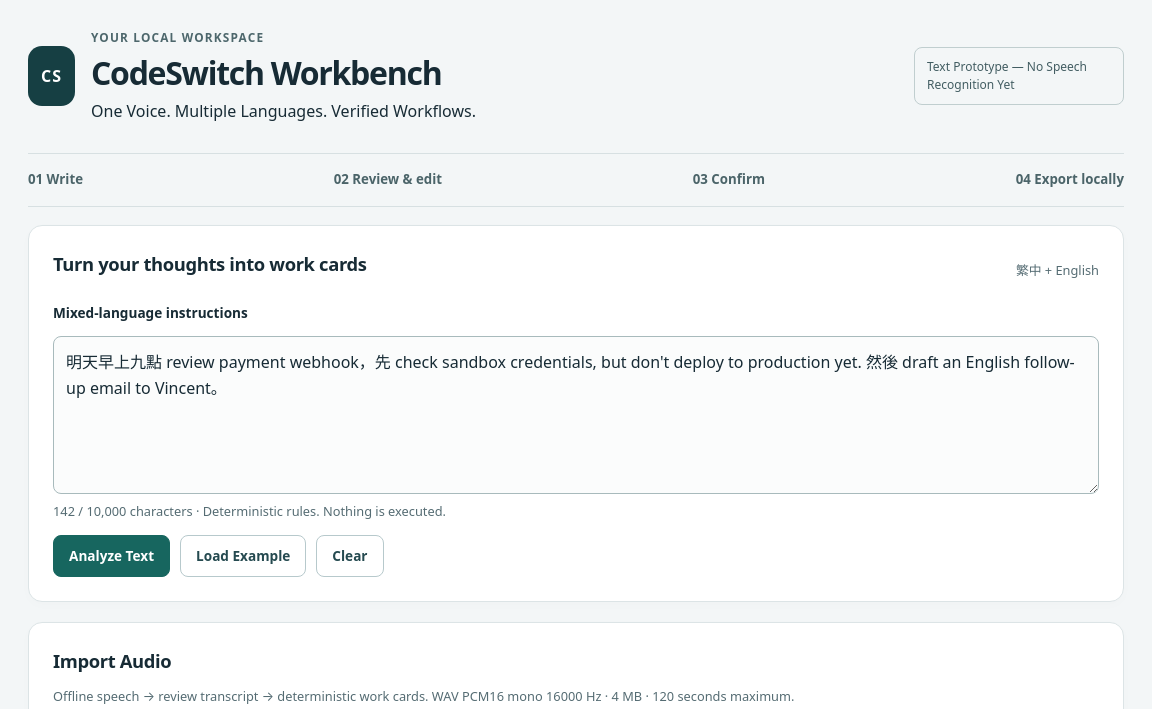
shows correct calendar and task fields and unknown email address
Click the button "Analyze Text": (112, 556) left=53, top=535, right=170, bottom=577
(page scrolled)
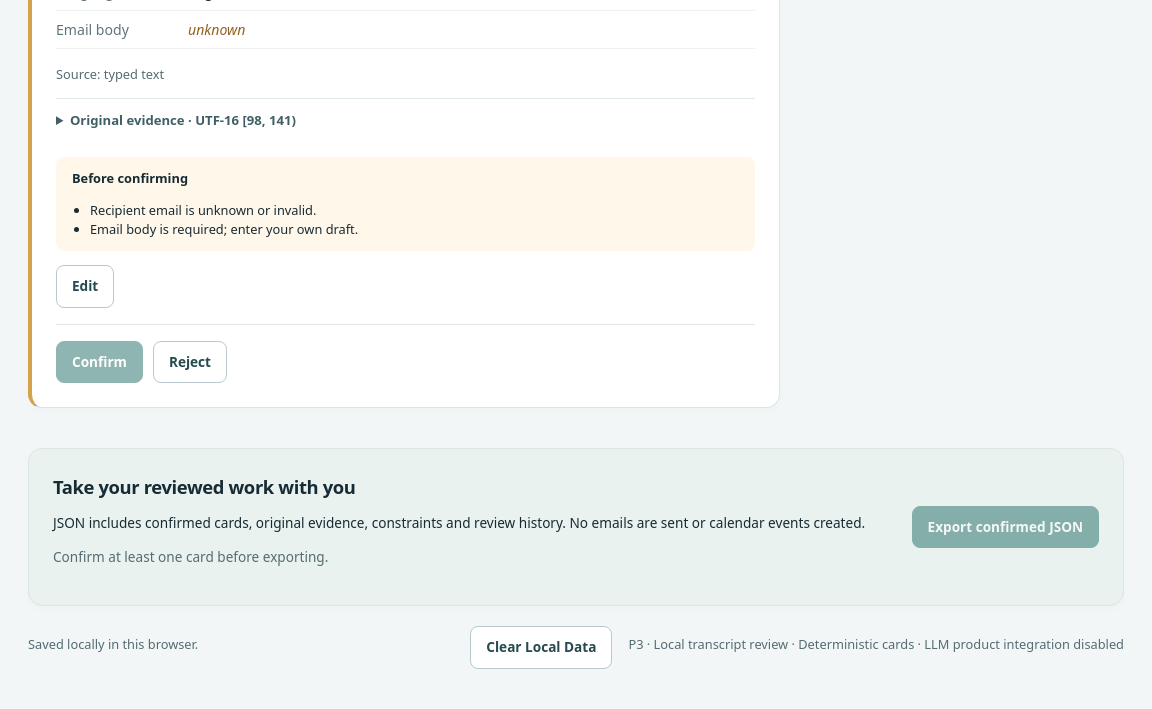
expect the text "unknown" is shown 2 times: met
expect the button "Confirm" is disabled: met, box left=56, top=340, right=143, bottom=383
